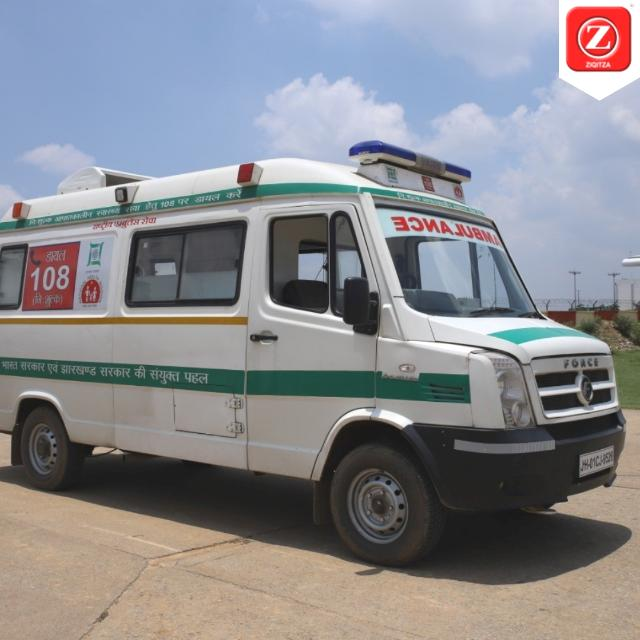ambulance: (2, 137, 633, 568)
